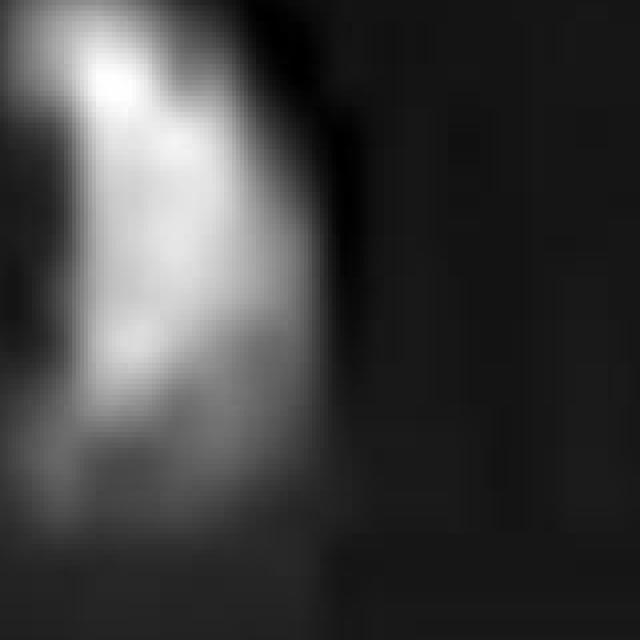person: (1, 1, 341, 529)
